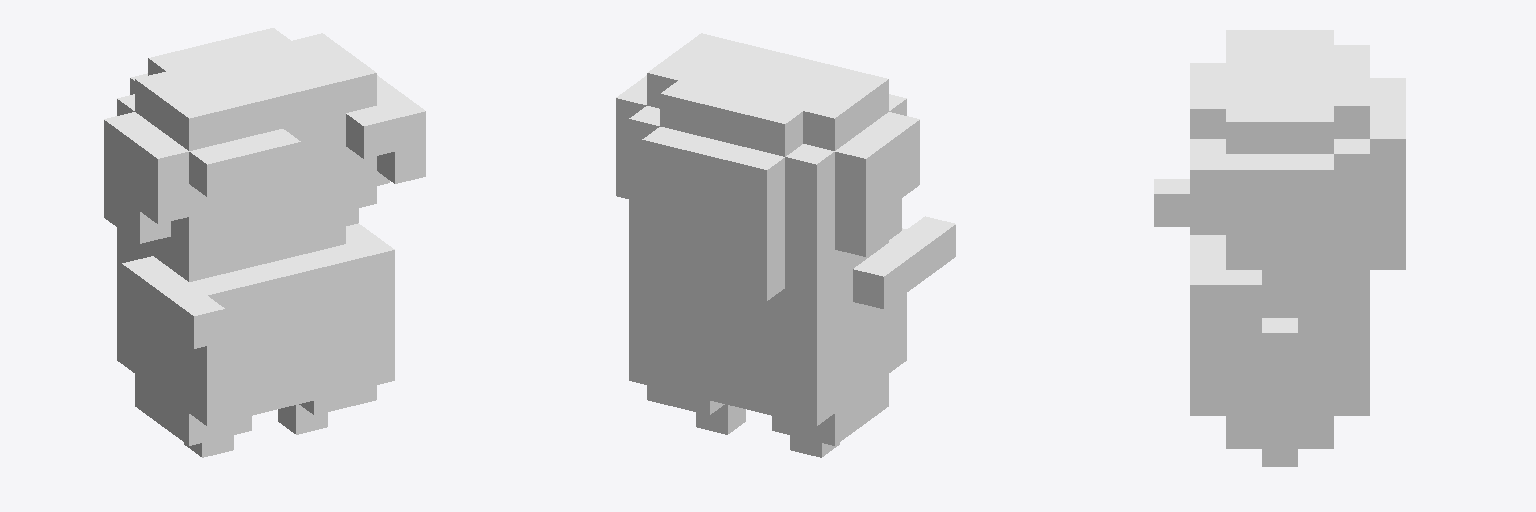
The model's file is chr_zombie1.obj.
3 views of the same model, side by side, from view 1: azimuth 30°, elevation 25°; view 2: azimuth 150°, elevation 25°; view 3: azimuth 270°, elevation 25° (orthographic).
Size of the model in its own units: 8 by 11 by 7.